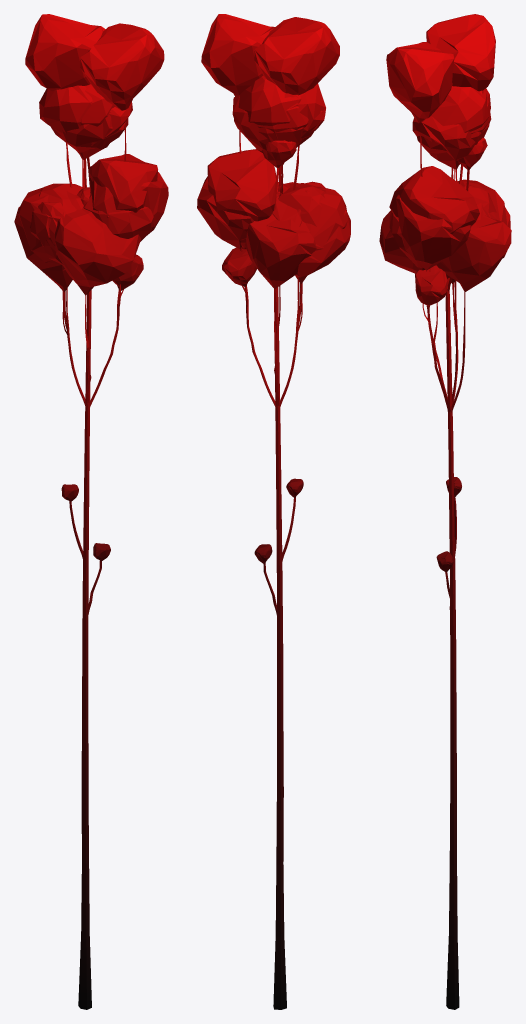
The model's file is TreeBirchTall05.fbx.
3 views of the same model, side by side, from view 1: azimuth 30°, elevation 25°; view 2: azimuth 210°, elevation 25°; view 3: azimuth 270°, elevation 25° (orthographic).
Visible parts, largest first — view 1: TreeBirchTall05_LOD0; view 2: TreeBirchTall05_LOD0; view 3: TreeBirchTall05_LOD0.
Boxes of the visible parts, x1,y1,x2,y2 form: TreeBirchTall05_LOD0: [14, 14, 168, 1009]; TreeBirchTall05_LOD0: [197, 14, 350, 1009]; TreeBirchTall05_LOD0: [379, 14, 511, 1009].
Size of what is drawn, in the model's own units: 474 by 3573 by 438.
